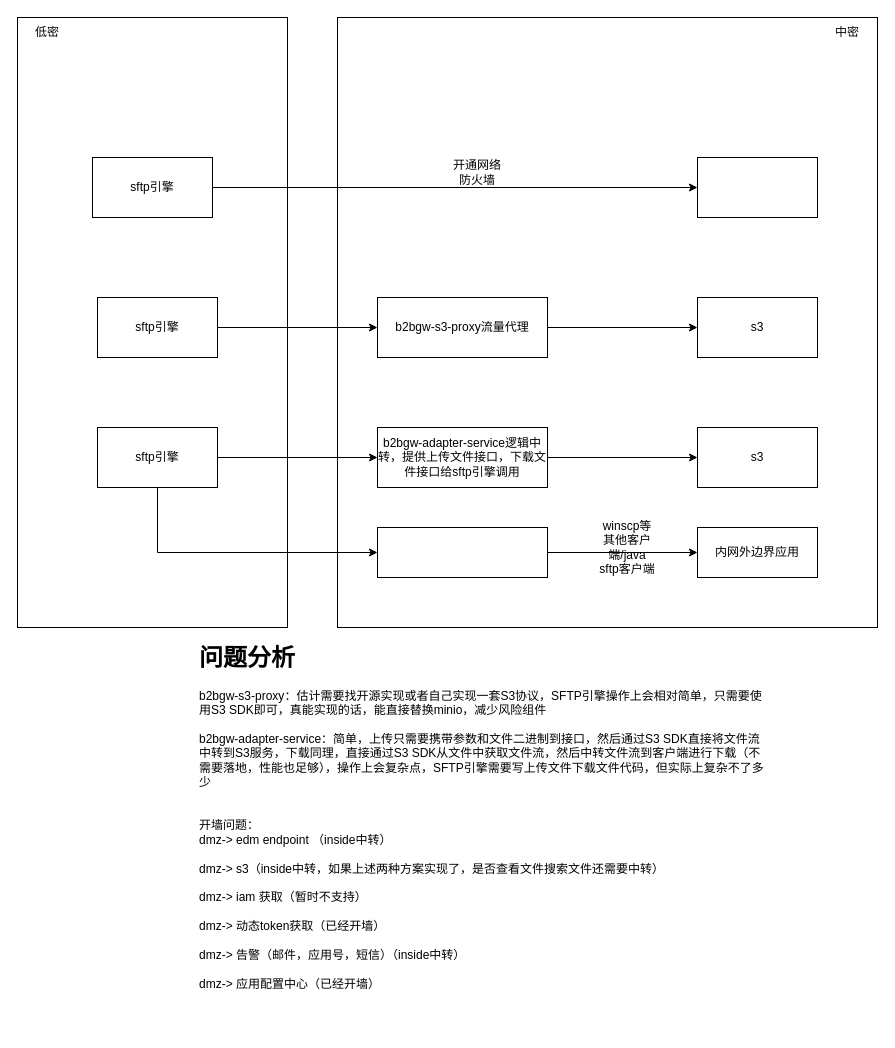
This 895x1048 diagram has some shape labels left out. The box of each missing label's shape, as (x1, y1, x2, y2) in pixels:
edm: (696, 156, 818, 218)
haproxy/nginx: (376, 526, 548, 578)
